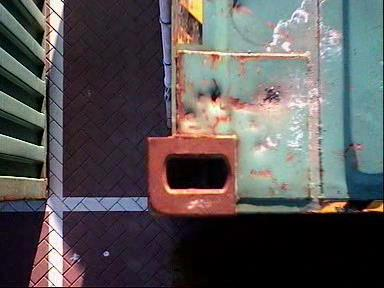groundmarker_2: (166, 1, 233, 102)
